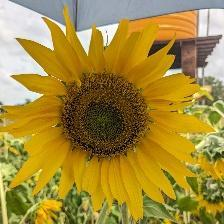sunflower: (21, 40, 195, 201)
